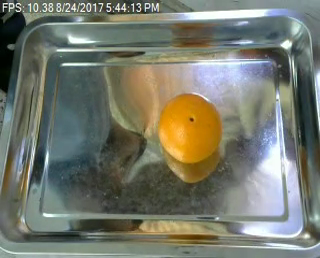Orange: (158, 91, 224, 164)
